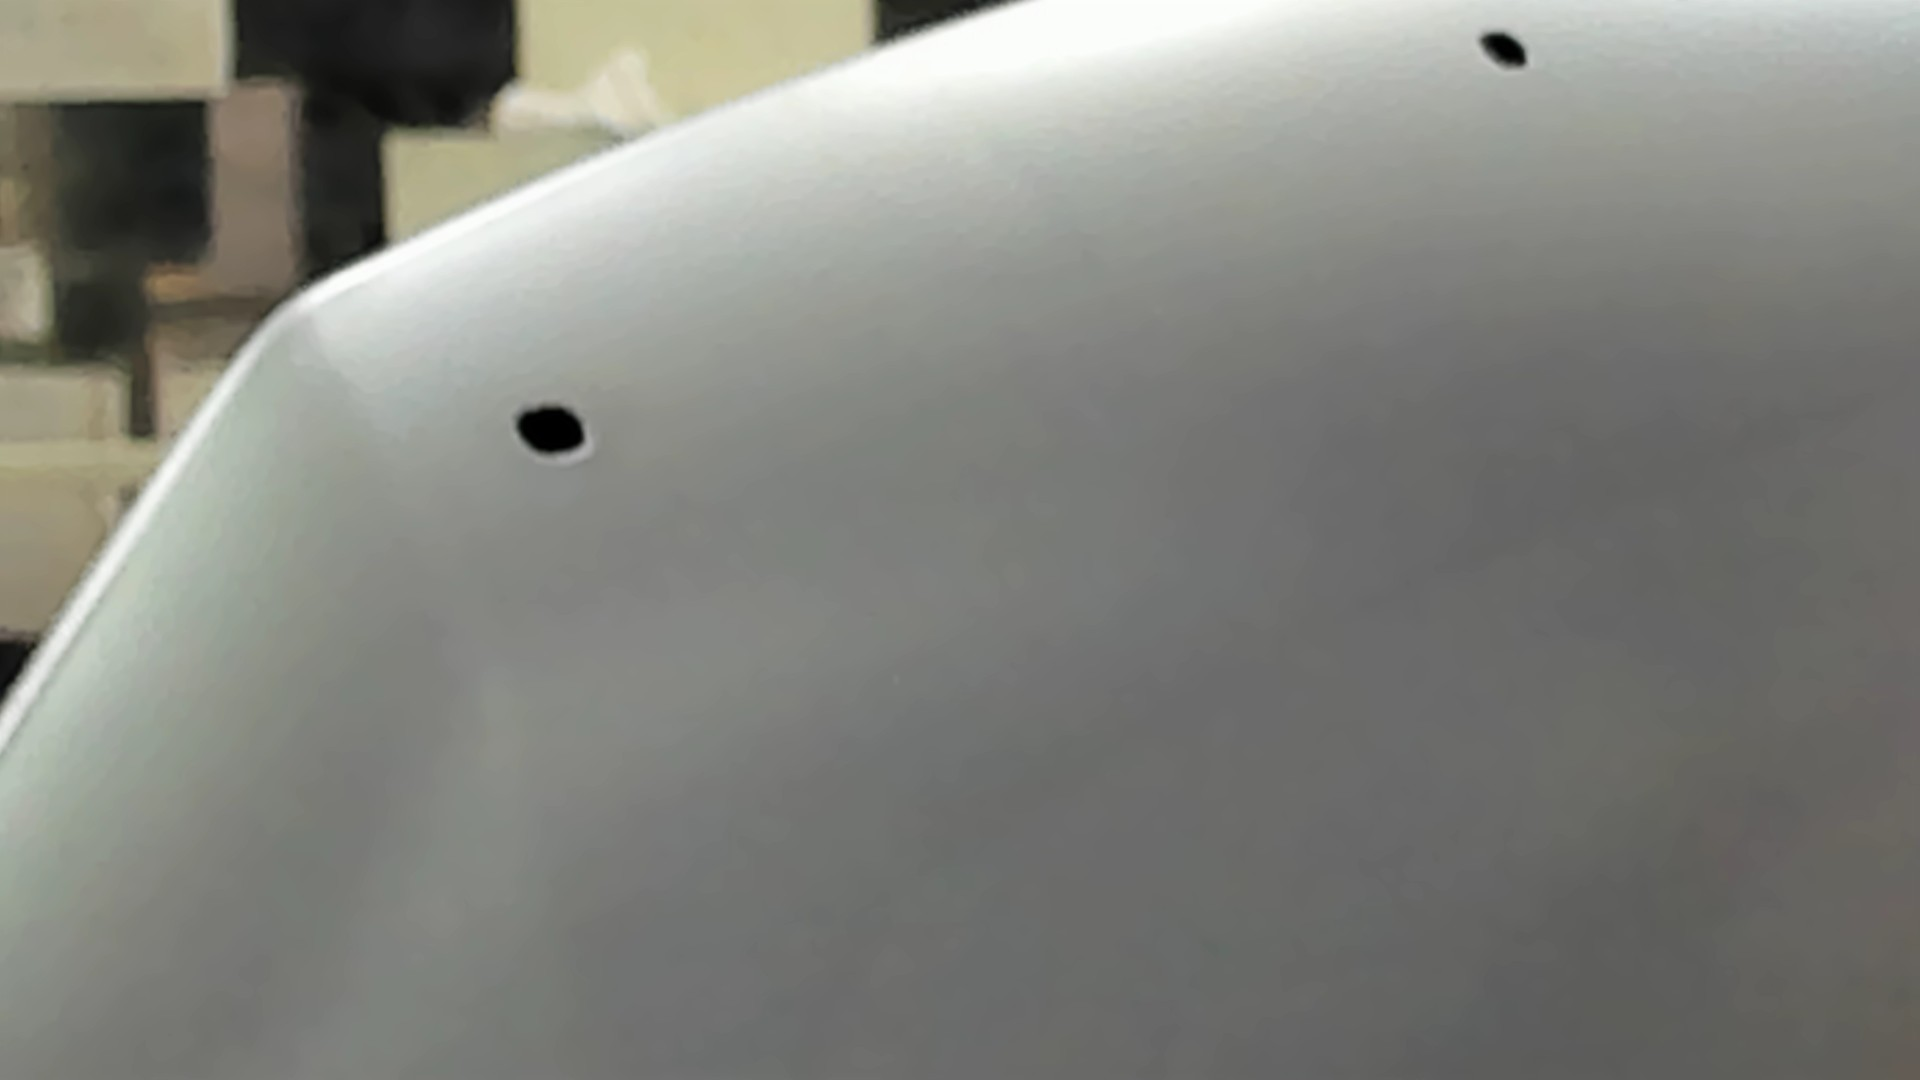amorfo: (513, 401, 596, 467), (1477, 24, 1538, 76)
